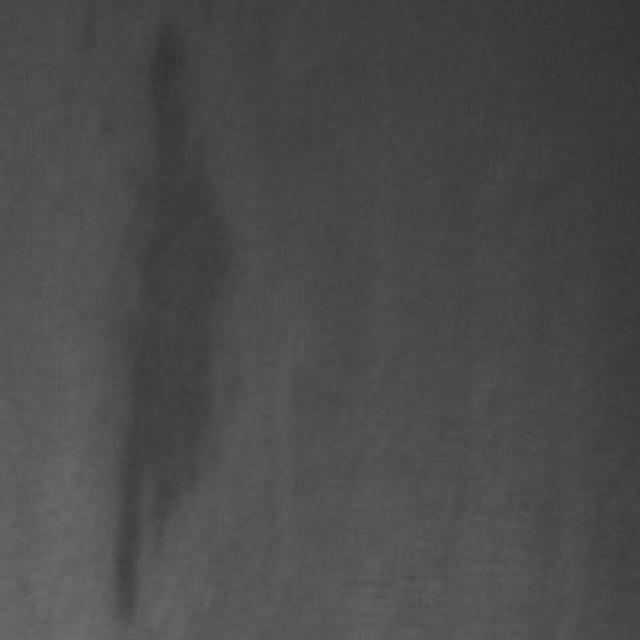inclusion: (102, 6, 240, 628)
